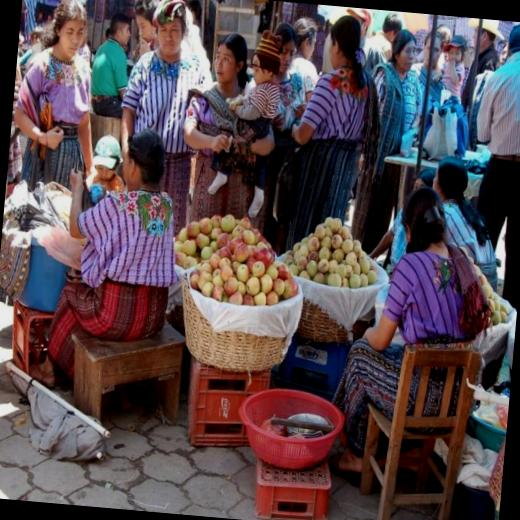Apple: (280, 211, 382, 290), (168, 210, 276, 276), (446, 240, 517, 327)
